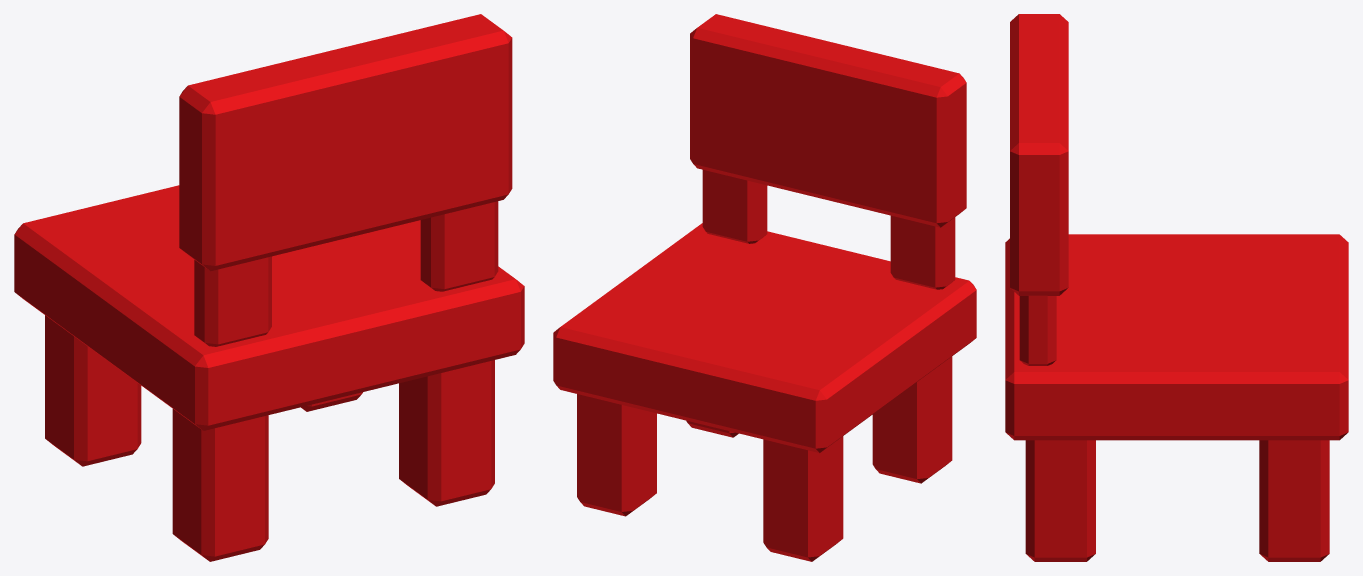
Rendered from FlippedOff_Chair.fbx.
The picture shows the model from 3 angles, left to right: view 1: azimuth 30°, elevation 25°; view 2: azimuth 150°, elevation 25°; view 3: azimuth 270°, elevation 25°; orthographic projection. The views are drawn at different scales.
Visible parts, largest first — view 1: Chair; view 2: Chair; view 3: Chair.
Part boxes in pixels (box(x1,y1,x2,y2)): Chair: box(14, 14, 524, 561); Chair: box(553, 14, 976, 561); Chair: box(1005, 14, 1348, 561).
Bounding box in the file's own units: 628 × 853 × 628.
